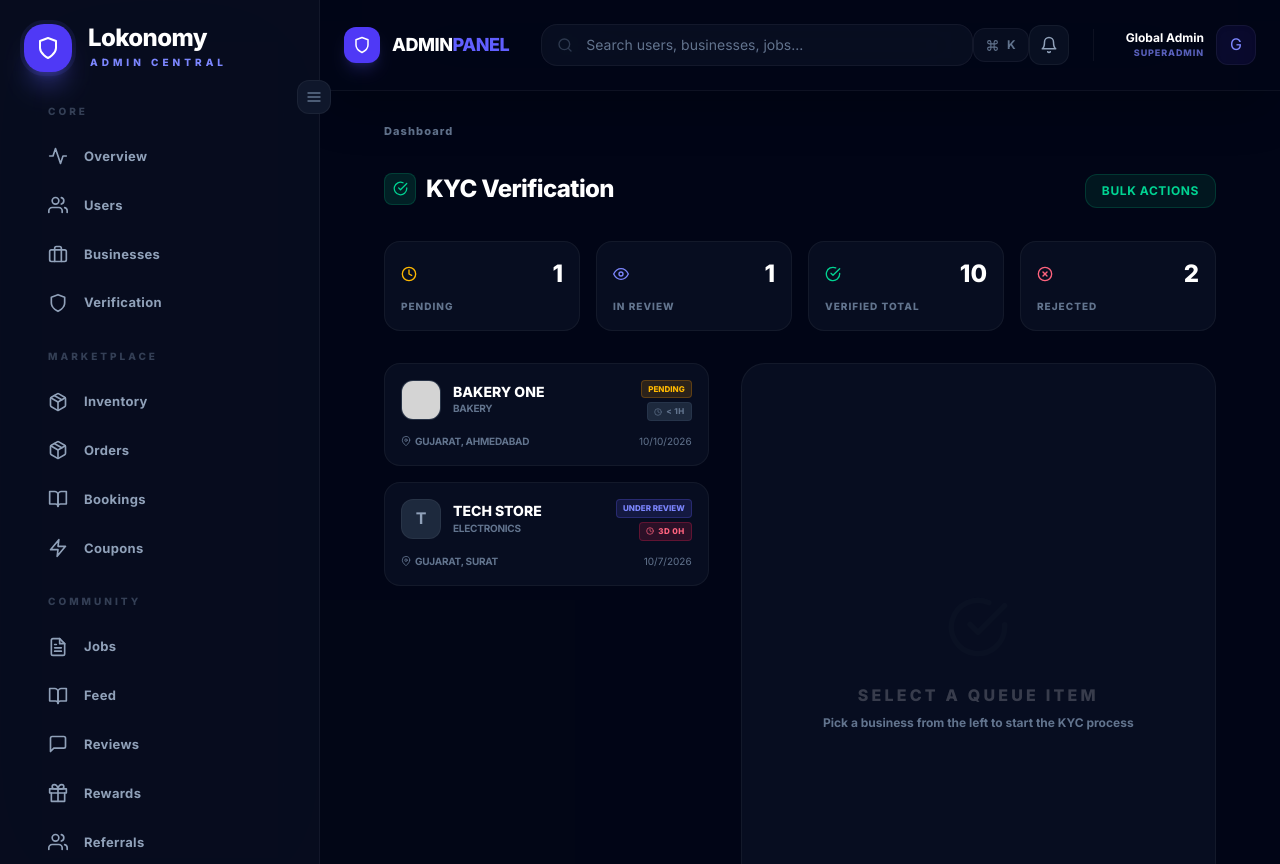
Test: AdminBusinessVerification Page › selects a business and shows details
Click the heading "Bakery One".
click(499, 392)  # box [453,383,544,400]
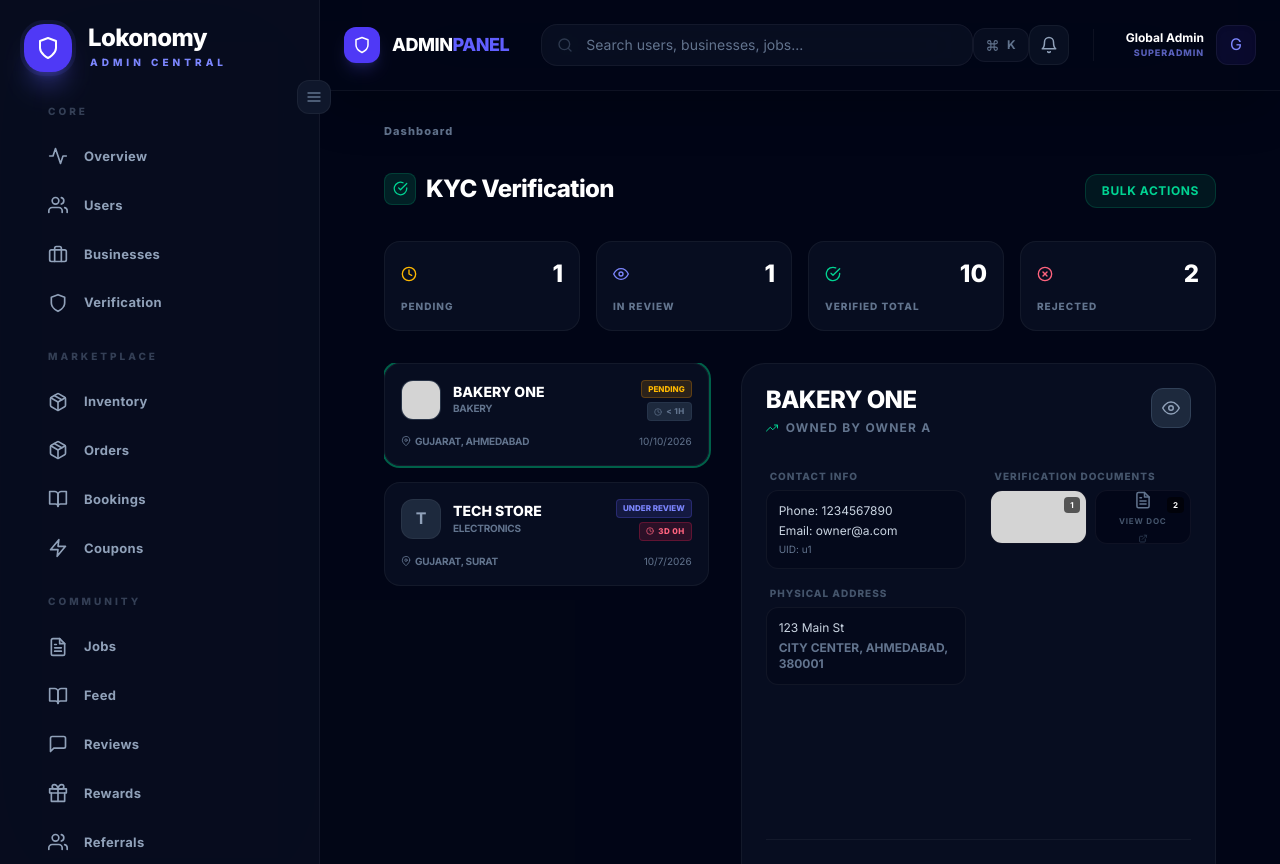
Check: the text "Verification Documents" is shown, box [994,470,1156,482]
Check: the text "123 Main St" is shown, box [779,620,844,635]
Check: the text "Email: owner@a.com" is shown, box [779,523,898,538]
